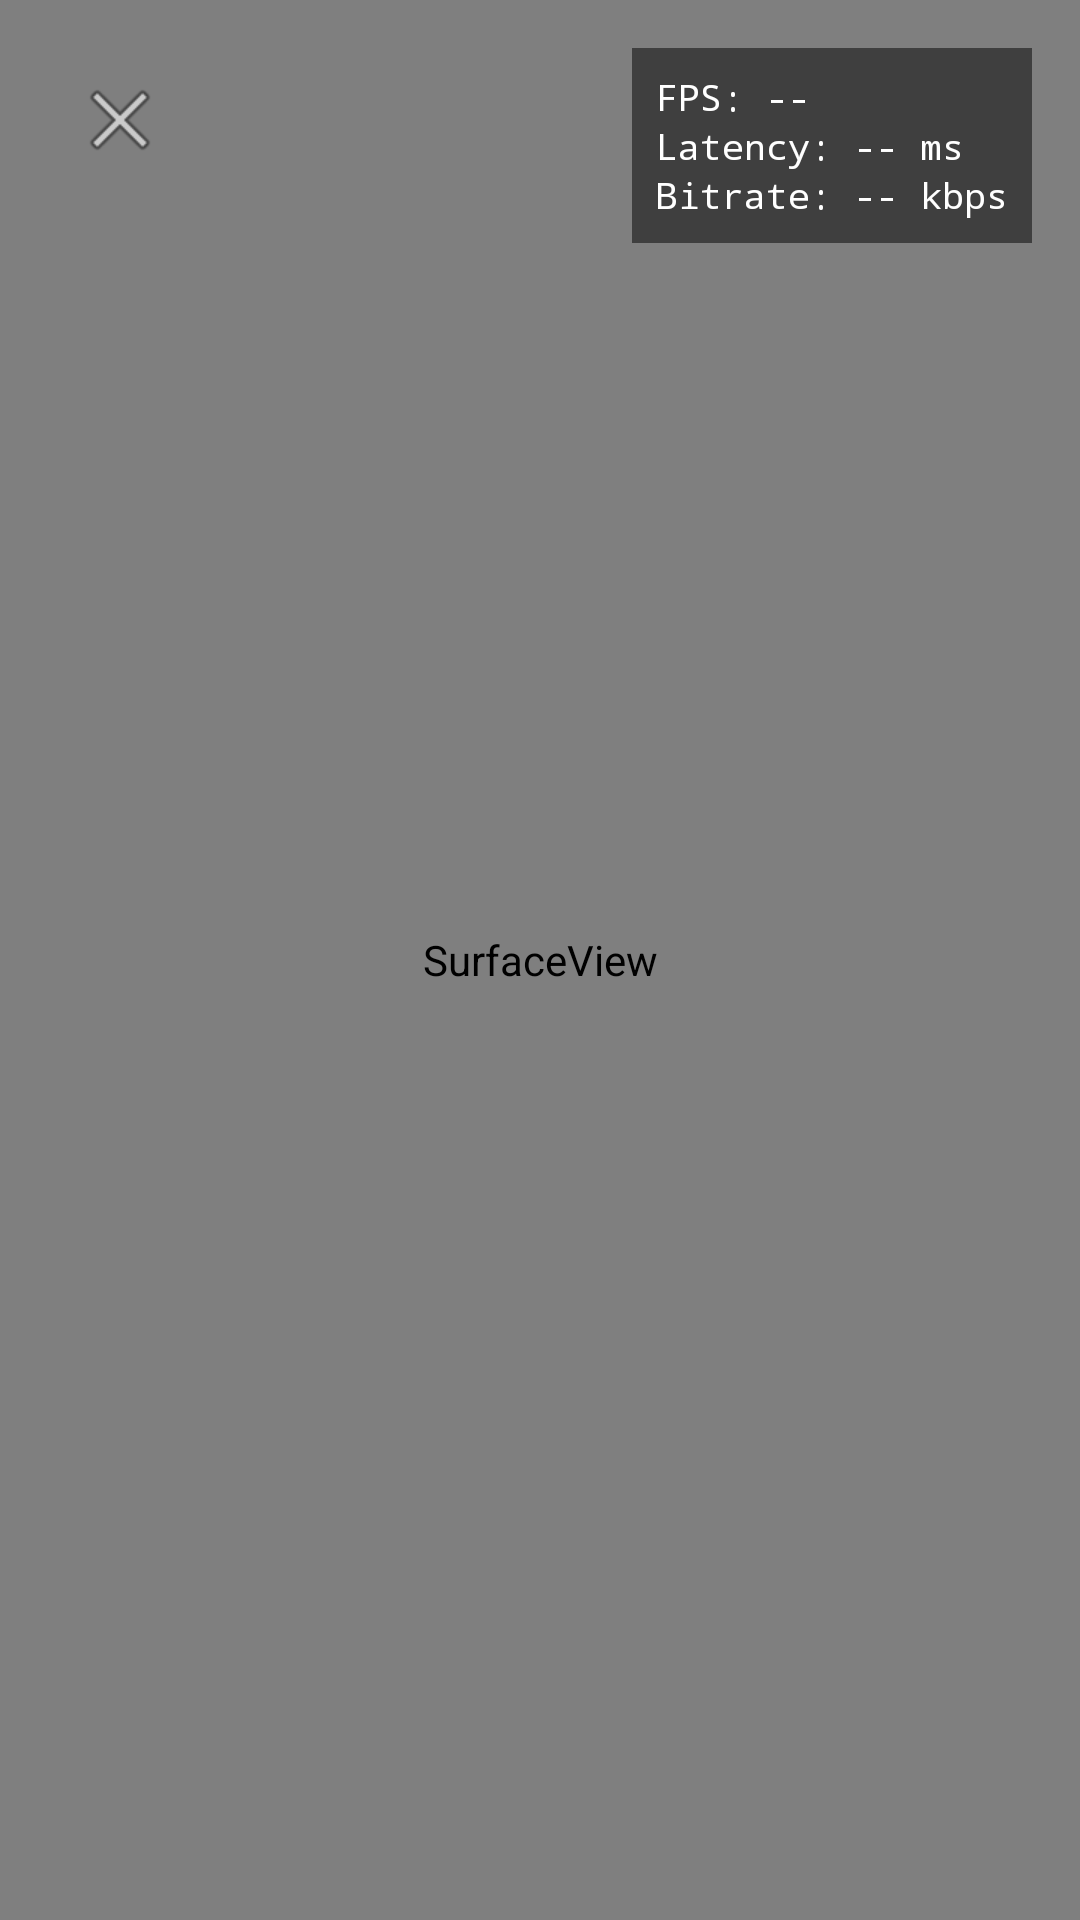

Icon click points for this 1080 x 1920 phone screenshot, format [x,y]:
Disconnect: [120,120]
